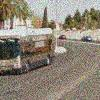buses: (0, 33, 55, 75)
